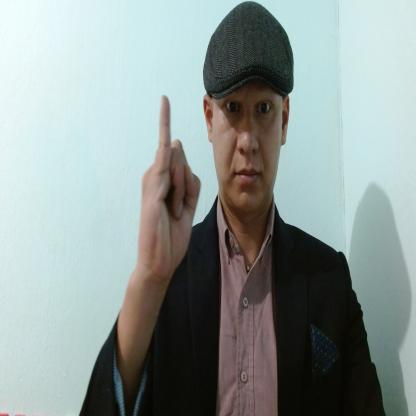I: (137, 93, 200, 276)
